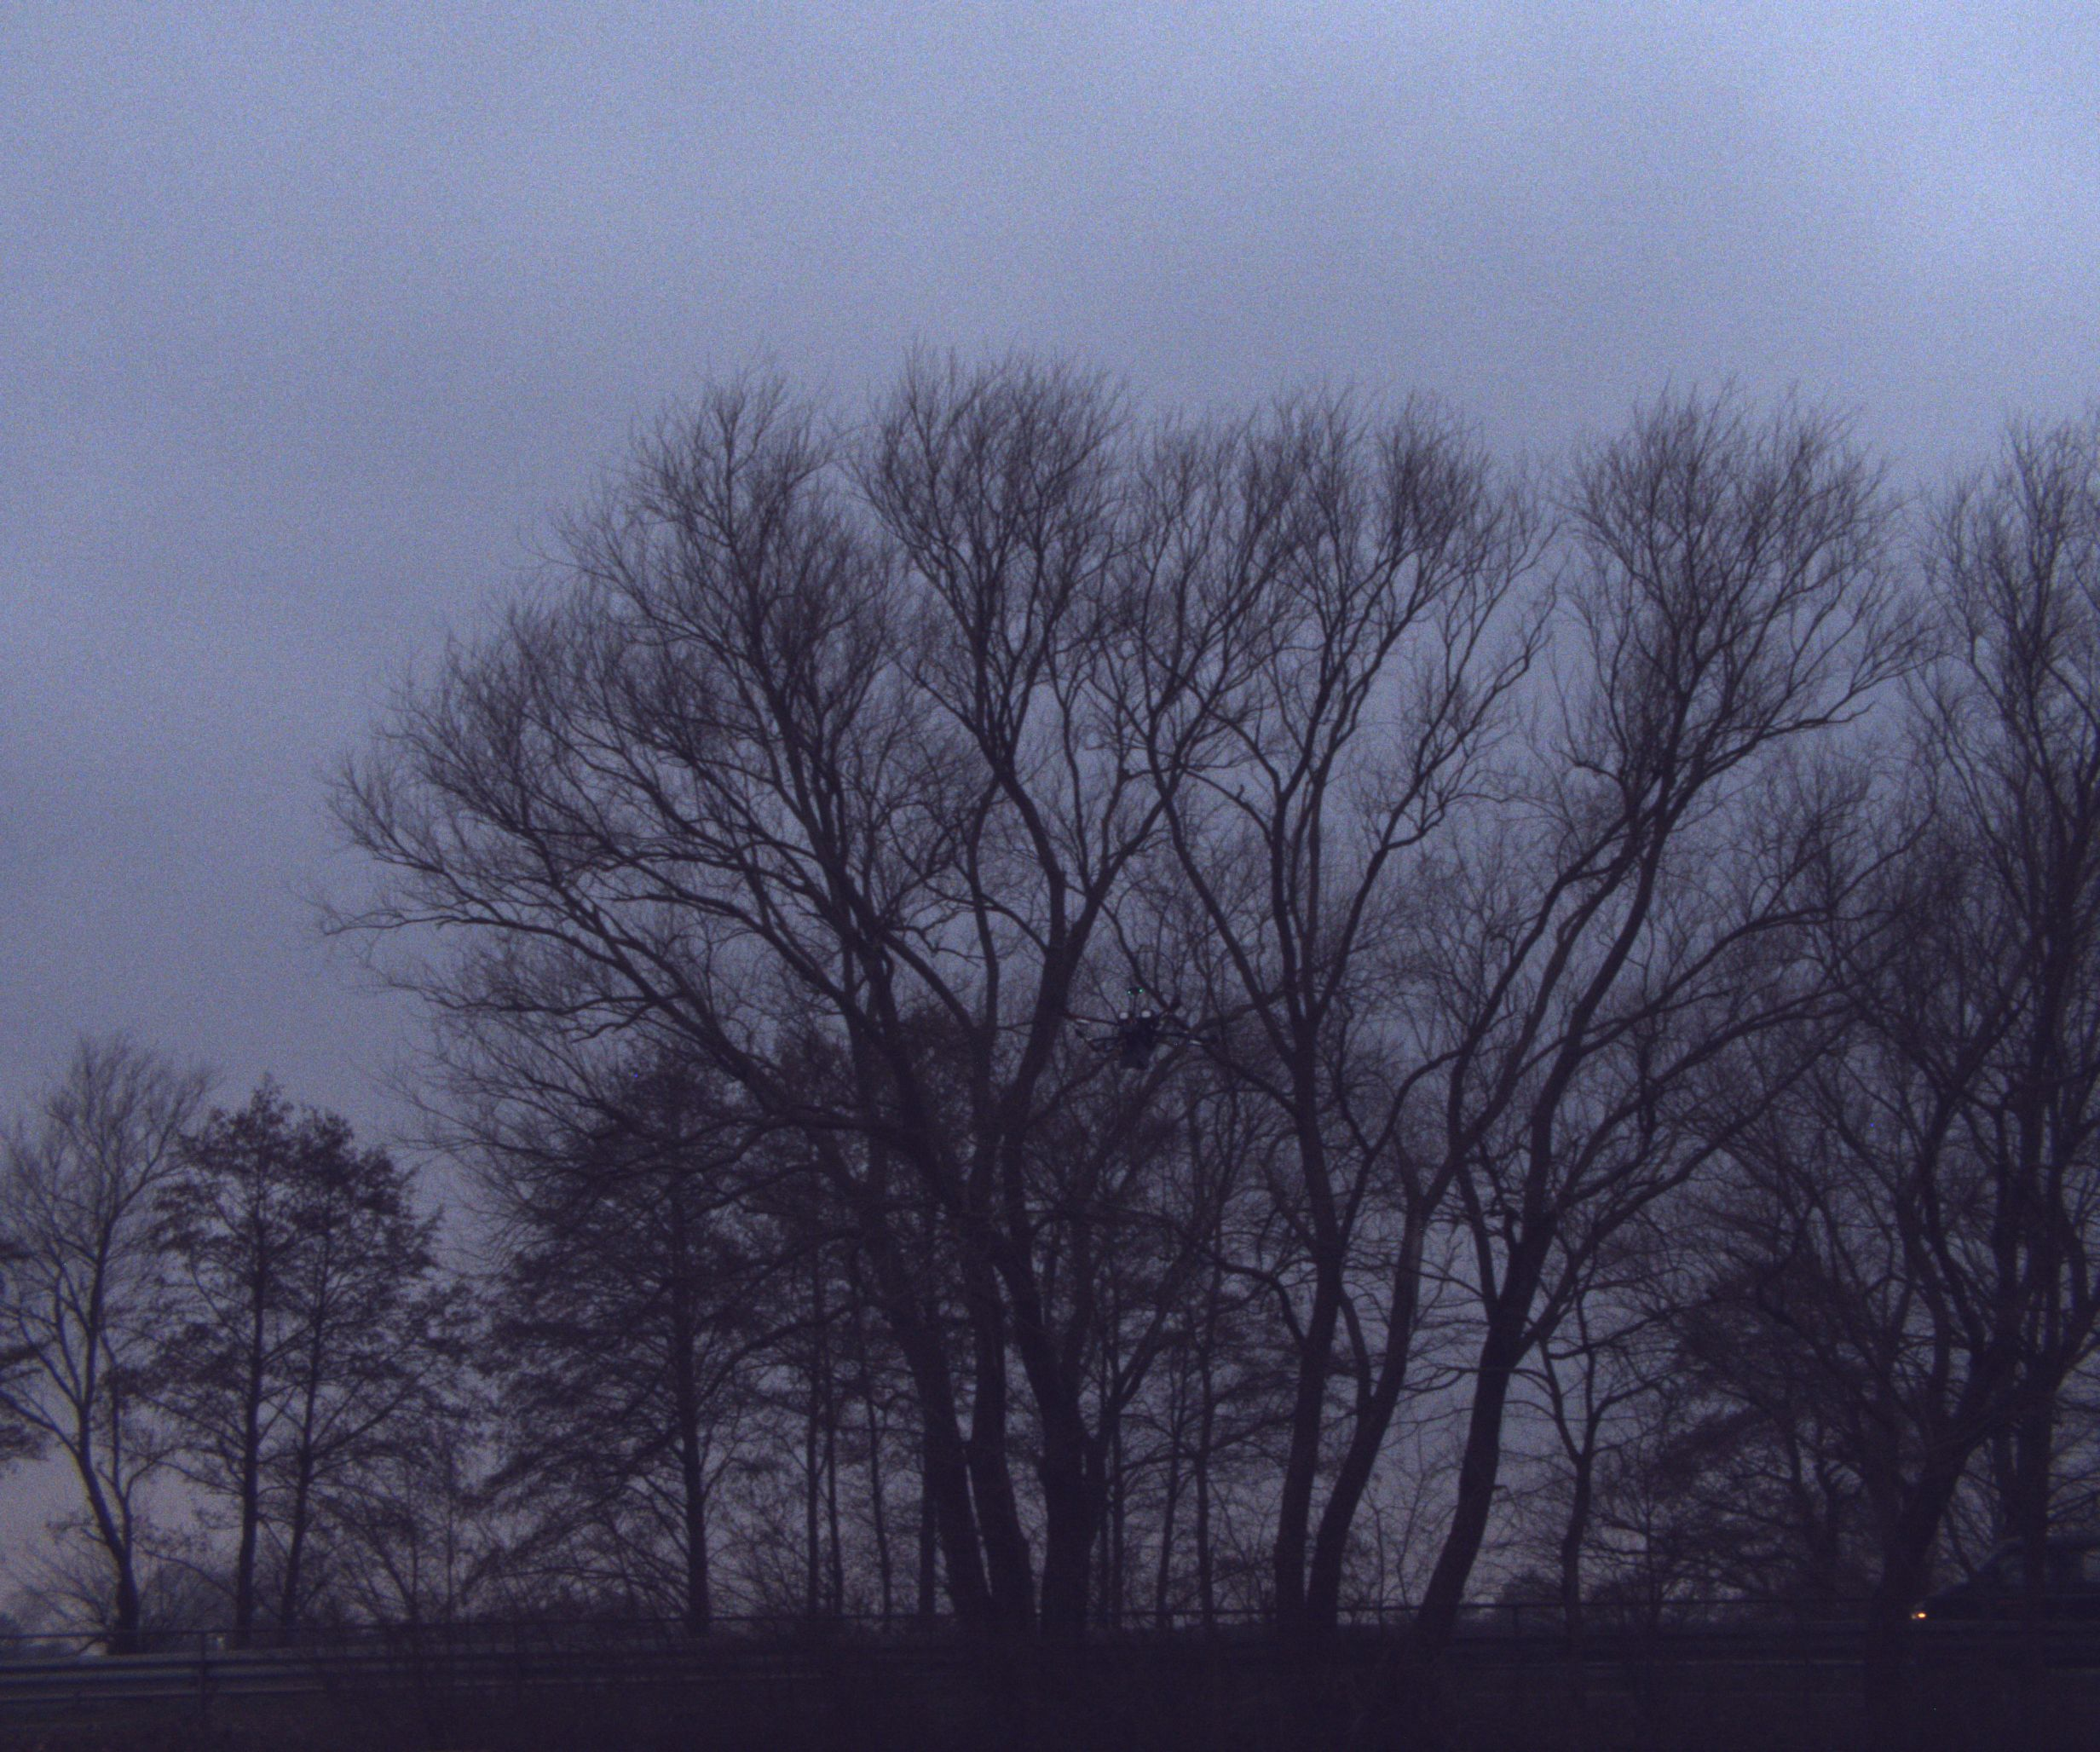Drohne: (1048, 973, 1244, 1103)
